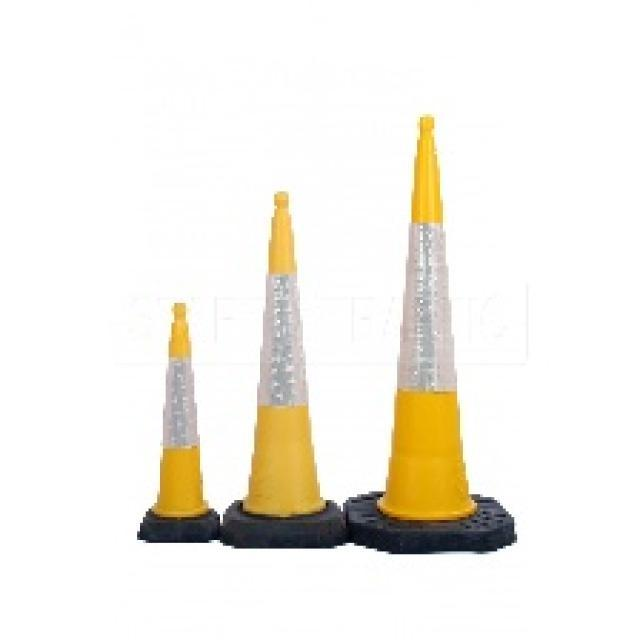traffic cone: (137, 301, 220, 544)
